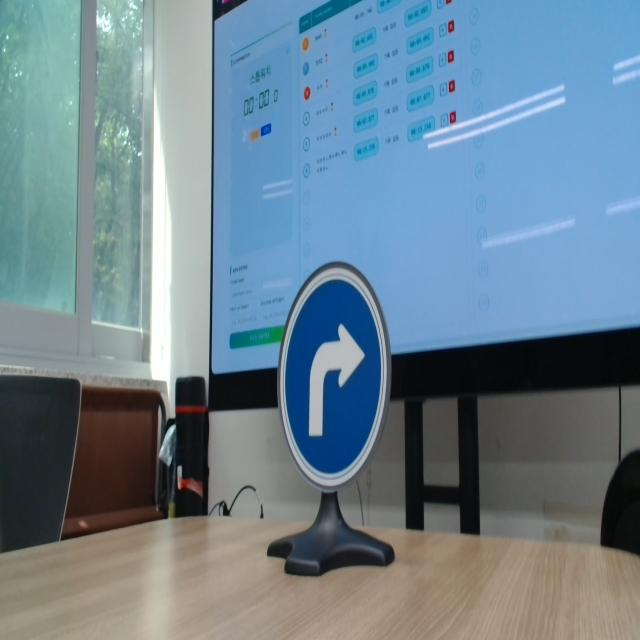right_dierection: (268, 255, 409, 544)
